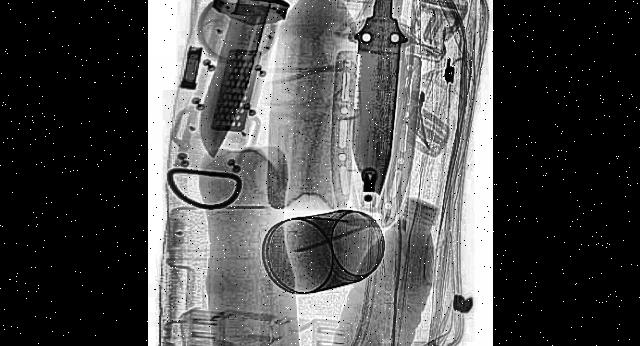Knife: (175, 0, 314, 188), (341, 0, 412, 203)
